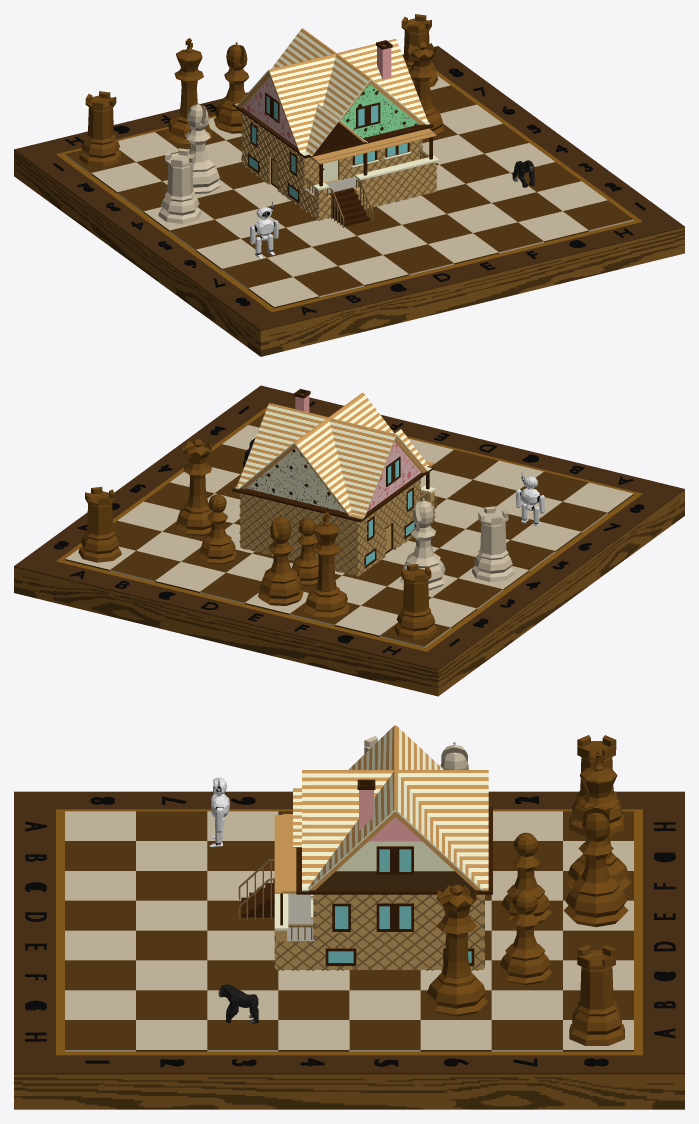
3 renders of one model, top to bottom at view 1: azimuth 30°, elevation 25°; view 2: azimuth 150°, elevation 25°; view 3: azimuth 270°, elevation 25°, orthographic. The views are drawn at different scales.
Visible parts, largest first — view 1: Cube.002, Cube.1102, OBJRANDOM_PLATZEEBOT; view 2: Cube.002, Cube.1102, OBJRANDOM_PLATZEEBOT; view 3: Cube.002, Cube.1102, ANIMAL_GORILA, OBJRANDOM_PLATZEEBOT.
Boxes of the visible parts, <box> form: Cube.002: <box>14,14,684,356</box>; Cube.1102: <box>232,28,439,227</box>; OBJRANDOM_PLATZEEBOT: <box>250,201,278,258</box>; Cube.002: <box>14,385,684,696</box>; Cube.1102: <box>232,389,436,576</box>; OBJRANDOM_PLATZEEBOT: <box>516,471,544,526</box>; Cube.002: <box>14,735,684,1109</box>; Cube.1102: <box>238,725,492,970</box>; ANIMAL_GORILA: <box>218,984,258,1023</box>; OBJRANDOM_PLATZEEBOT: <box>209,777,229,846</box>.
Bounding box in the file's own units: 3981 × 1462 × 4012.
Materials: 25 (3 with a texture image).
